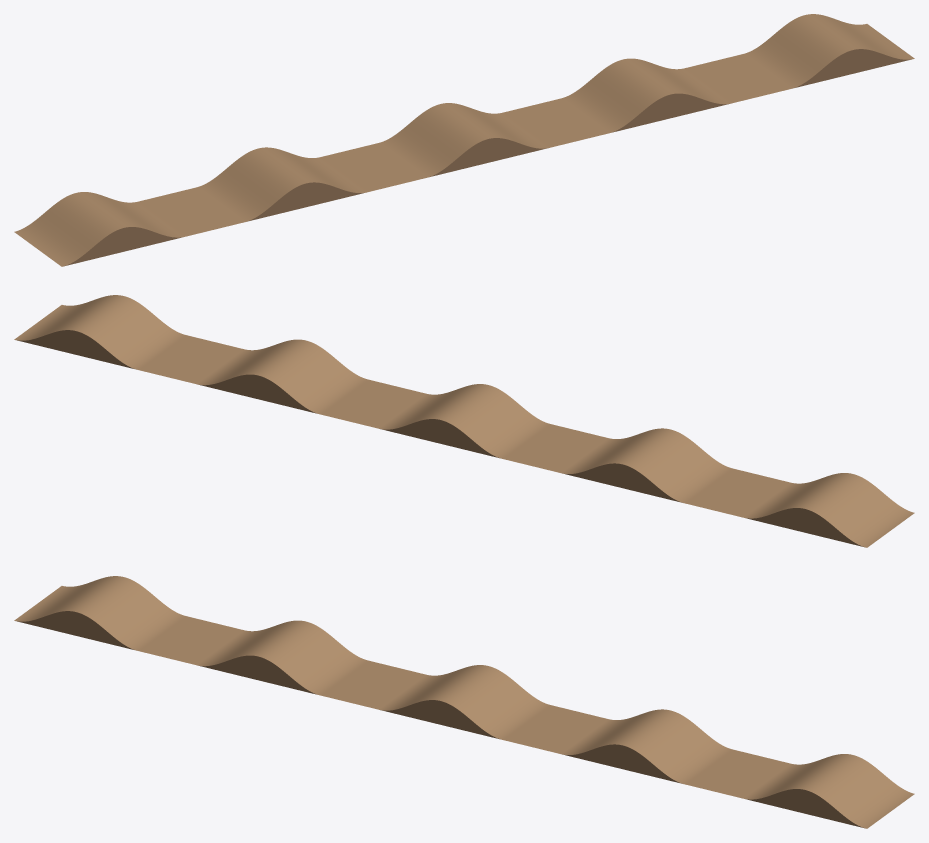
File: SC_Prop_Rollers.fbx
3 renders of one model, top to bottom at view 1: azimuth 30°, elevation 25°; view 2: azimuth 150°, elevation 25°; view 3: azimuth 330°, elevation 25°, orthographic.
Visible parts, largest first — view 1: SC_Prop_Rollers; view 2: SC_Prop_Rollers; view 3: SC_Prop_Rollers.
Boxes of the visible parts, x1=… form: SC_Prop_Rollers: x1=14, y1=14, x2=914, y2=266; SC_Prop_Rollers: x1=14, y1=295, x2=914, y2=547; SC_Prop_Rollers: x1=14, y1=576, x2=914, y2=828.
Size of the model in its own units: 20.6 by 0.55 by 2.
